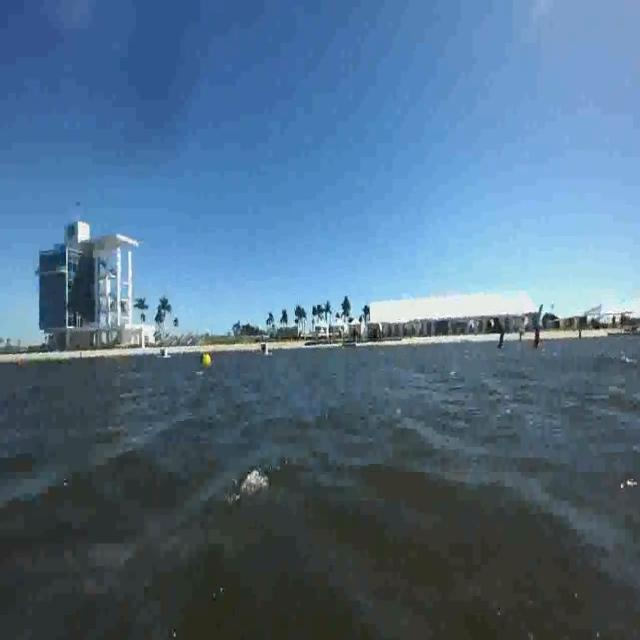yellow-buoy: (203, 352, 213, 368)
